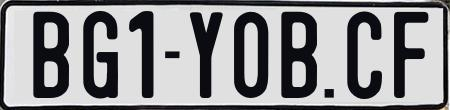0: (233, 12, 267, 103)
1: (128, 9, 153, 99)
B: (278, 9, 315, 97), (32, 12, 68, 101)
C: (347, 8, 382, 102)
F: (392, 9, 427, 96)
G: (81, 9, 118, 99)
Y: (190, 9, 228, 99)
